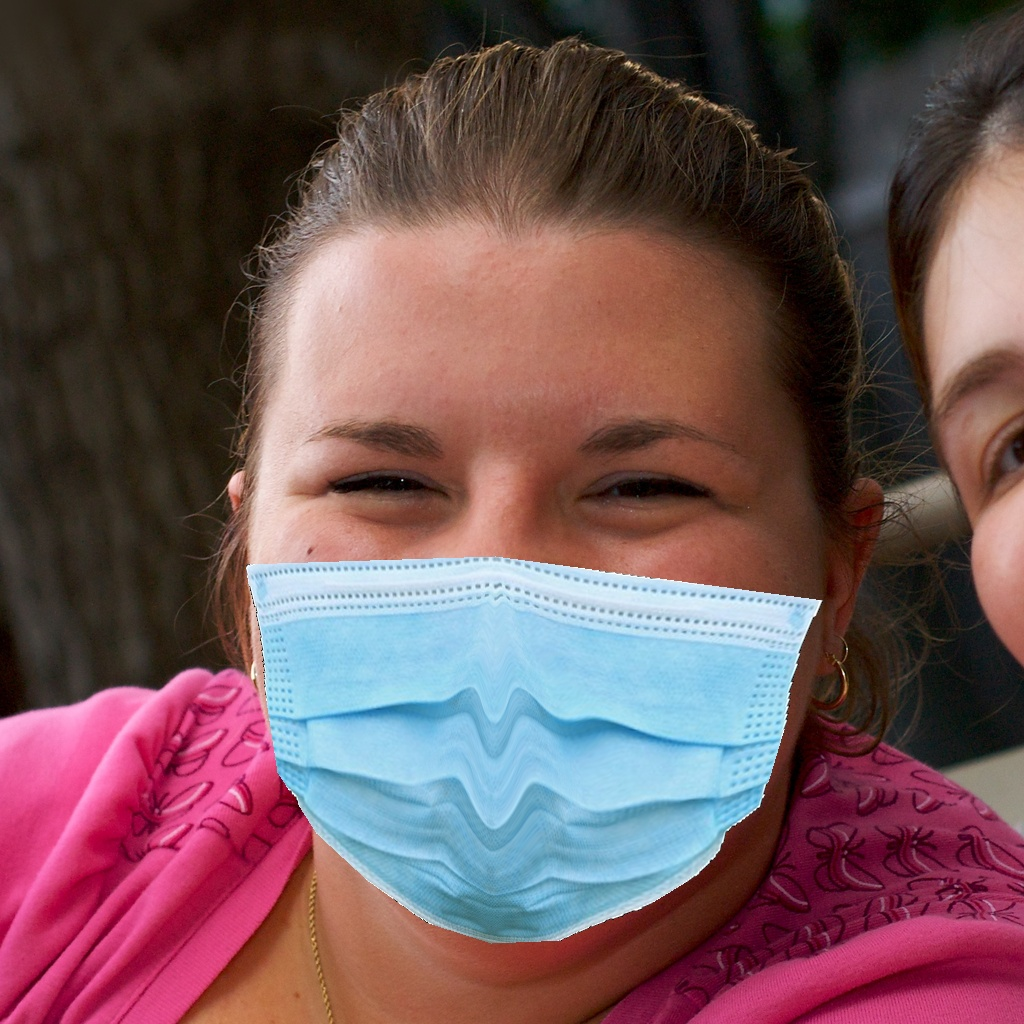Mask: (239, 370, 820, 943)
